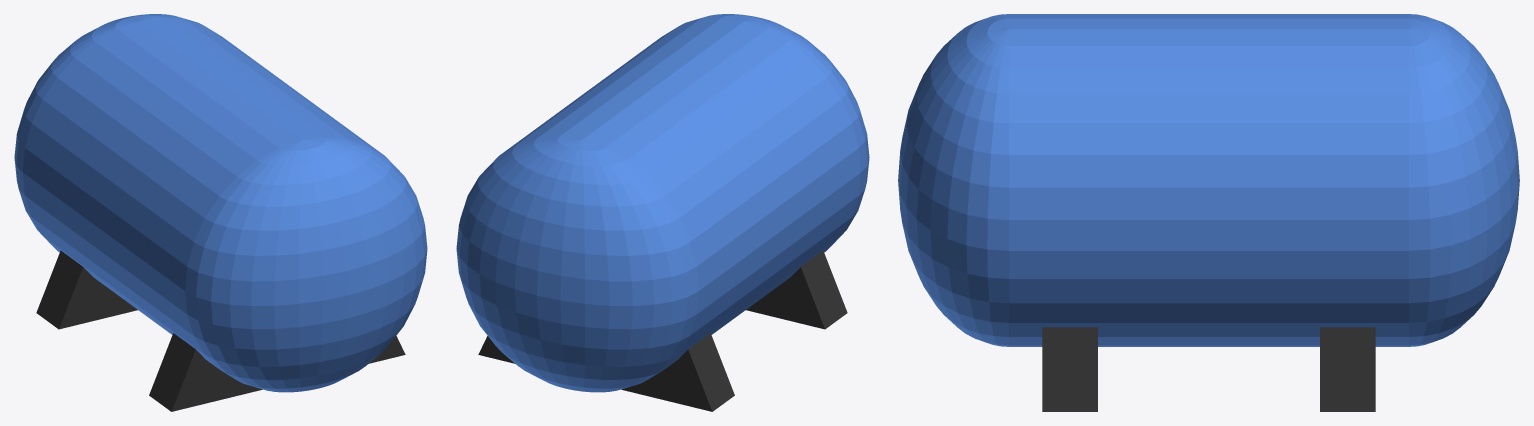
The model's file is FualTank.fbx.
The picture shows the model from 3 angles, left to right: view 1: azimuth 30°, elevation 25°; view 2: azimuth 150°, elevation 25°; view 3: azimuth 270°, elevation 25°; orthographic projection. The views are drawn at different scales.
Visible parts, largest first — view 1: Cylinder, Sphere.001, Cube.001, Cube, Sphere; view 2: Cylinder, Sphere, Cube, Cube.001, Sphere.001; view 3: Cylinder, Sphere, Sphere.001, Cube, Cube.001.
Part boxes in pixels (left/top/right/bottom): Cylinder: left=22, top=18, right=383, bottom=368; Sphere.001: left=185, top=137, right=427, bottom=392; Cube.001: left=149, top=333, right=405, bottom=411; Cube: left=36, top=250, right=137, bottom=329; Sphere: left=14, top=14, right=203, bottom=234; Cylinder: left=500, top=18, right=861, bottom=368; Sphere: left=456, top=137, right=698, bottom=392; Cube: left=478, top=333, right=734, bottom=411; Cube.001: left=746, top=250, right=847, bottom=329; Sphere.001: left=680, top=14, right=869, bottom=234; Cylinder: left=1009, top=14, right=1408, bottom=346; Sphere: left=1409, top=14, right=1519, bottom=346; Sphere.001: left=898, top=14, right=1008, bottom=346; Cube: left=1320, top=327, right=1375, bottom=411; Cube.001: left=1042, top=327, right=1097, bottom=411.
Size of the model in its own units: 300 by 310 by 560.
